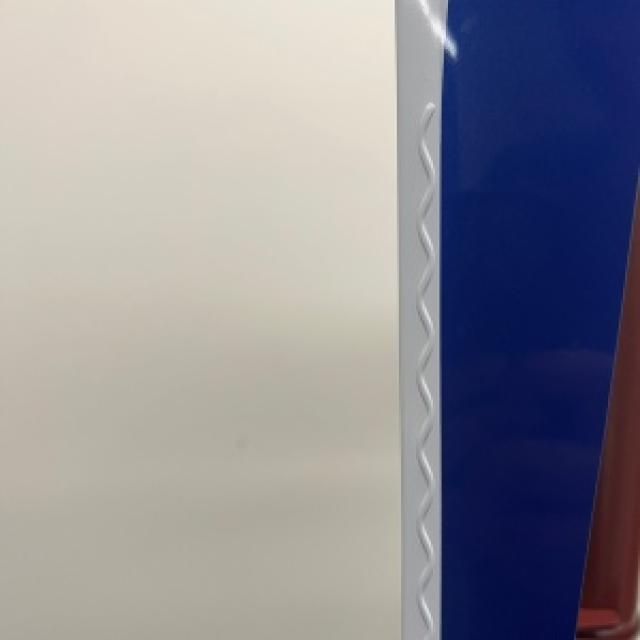healthy: (397, 0, 638, 638)
